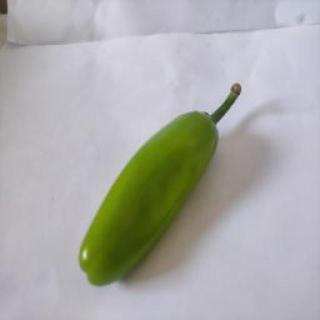Cabai Hijau: (72, 78, 250, 292)
